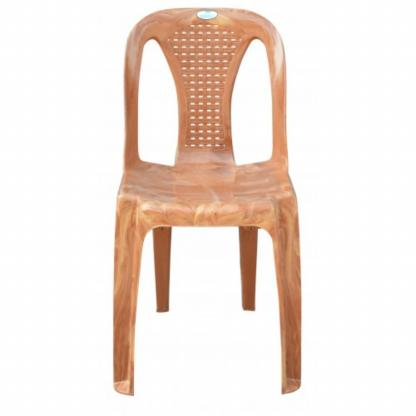Chair: (111, 6, 302, 396)
